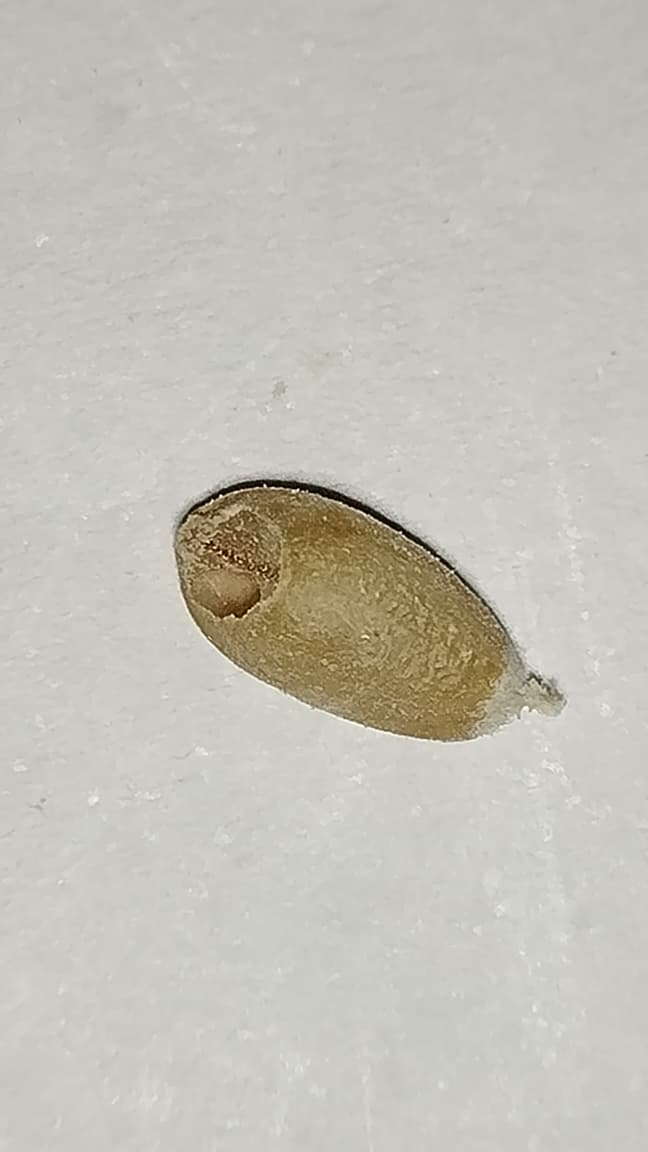damage: (176, 486, 537, 740)
insectdamage: (194, 486, 288, 634)
molddamage: (480, 641, 565, 733)
